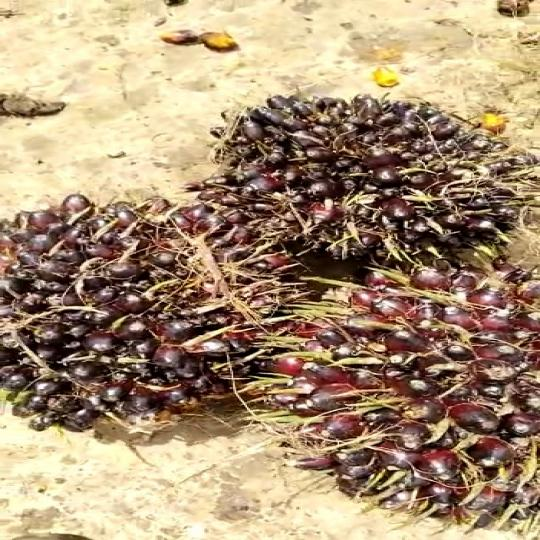mentah: (0, 192, 316, 442), (283, 255, 540, 540), (179, 93, 540, 262)
